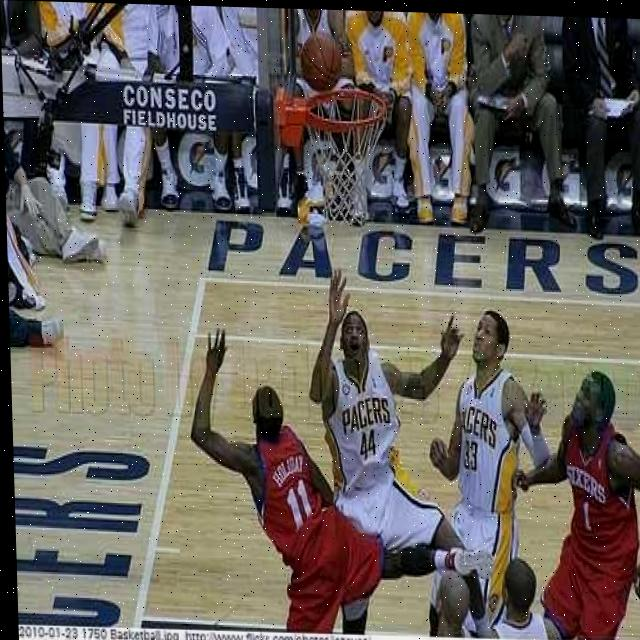basketball: (299, 30, 343, 94)
hoop: (306, 86, 392, 229)
